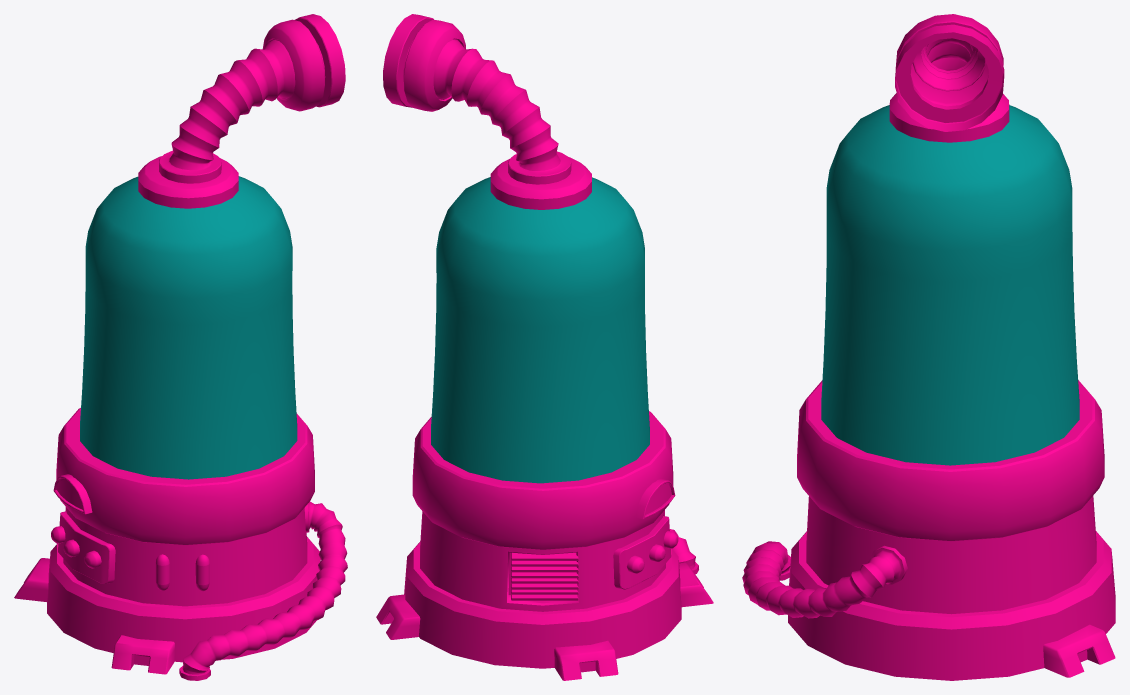
File: bg_mix.FBX
3 renders of one model, left to right at view 1: azimuth 30°, elevation 25°; view 2: azimuth 150°, elevation 25°; view 3: azimuth 270°, elevation 25°, orthographic. The views are drawn at different scales.
Parts seen in each view (by area): view 1: bg_mix; view 2: bg_mix; view 3: bg_mix.
Boxes of the visible parts, box(x1,y1,x2,y2) form: bg_mix: box(14, 14, 347, 680); bg_mix: box(376, 14, 713, 680); bg_mix: box(742, 14, 1115, 680).
Bounding box in the file's own units: 419 × 854 × 440.
